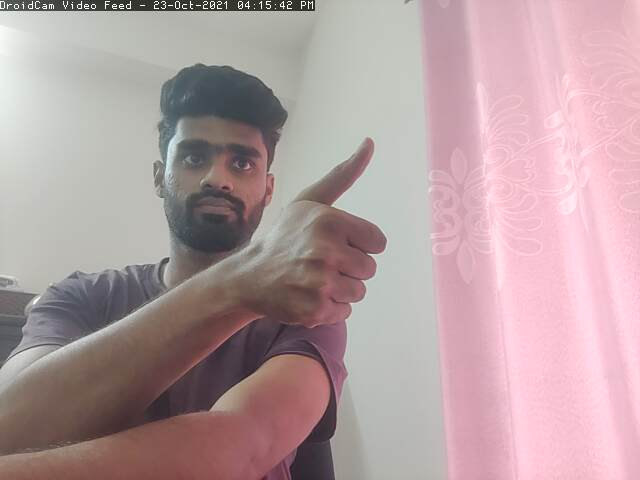ThumbsUp: (271, 134, 392, 333)
